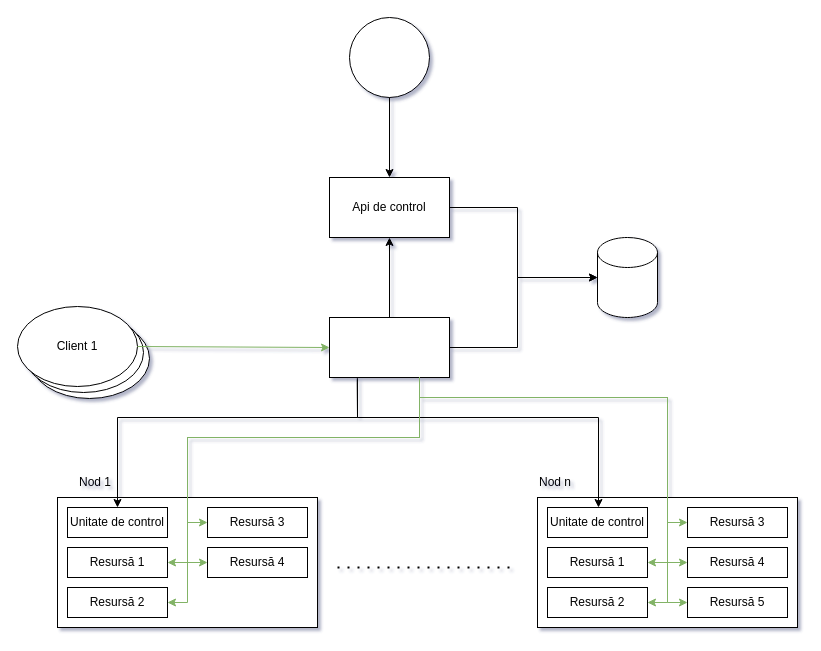
Image size: 821x651. Some labels were removed from this diagram. Each missing label, with the centre of its shape:
"Interfață web de configurare" goes at point (389, 57).
"Postgress" goes at point (627, 277).
"Unitate centrală de balancing și control" goes at point (389, 347).
